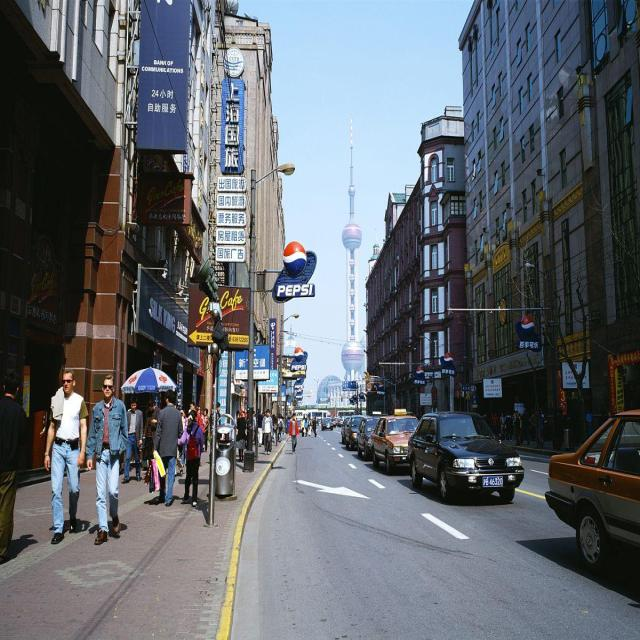non-fight: (45, 366, 87, 542), (0, 366, 28, 566), (92, 377, 123, 544), (152, 394, 182, 505)
